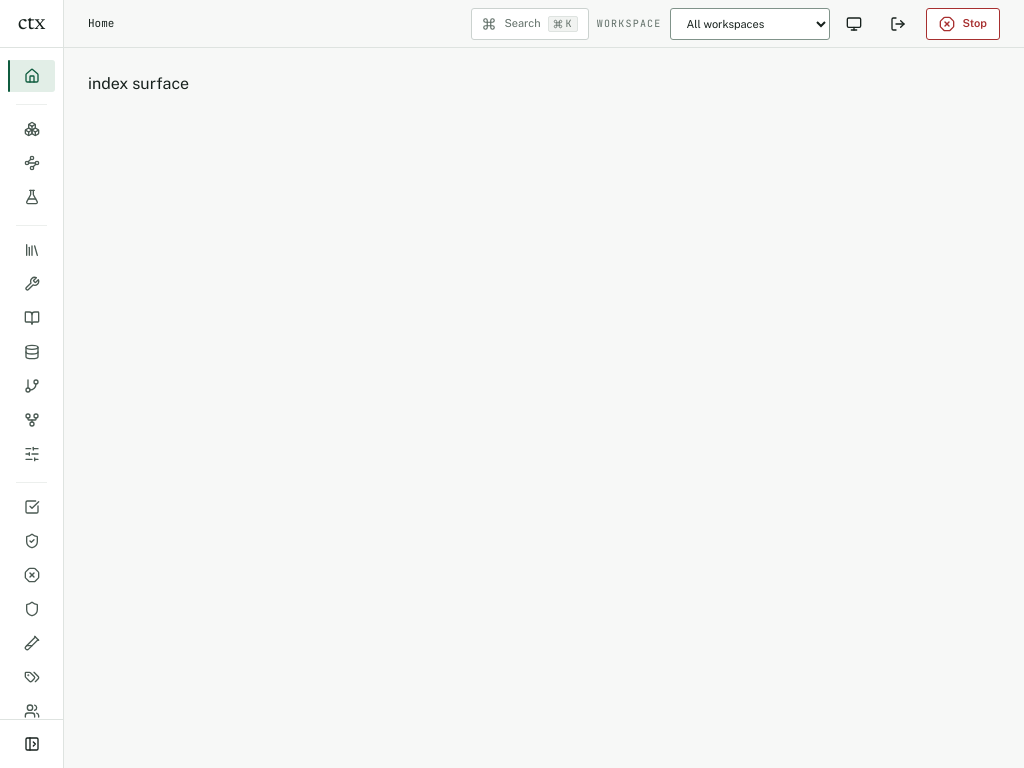
Test: ShellCommandPalette (cmd-K in the production shell) › runs the shell logout when Sign out is selected
Expected: the link named "Agents" is shown, [24,121,40,137]
Press k
(page scrolled)
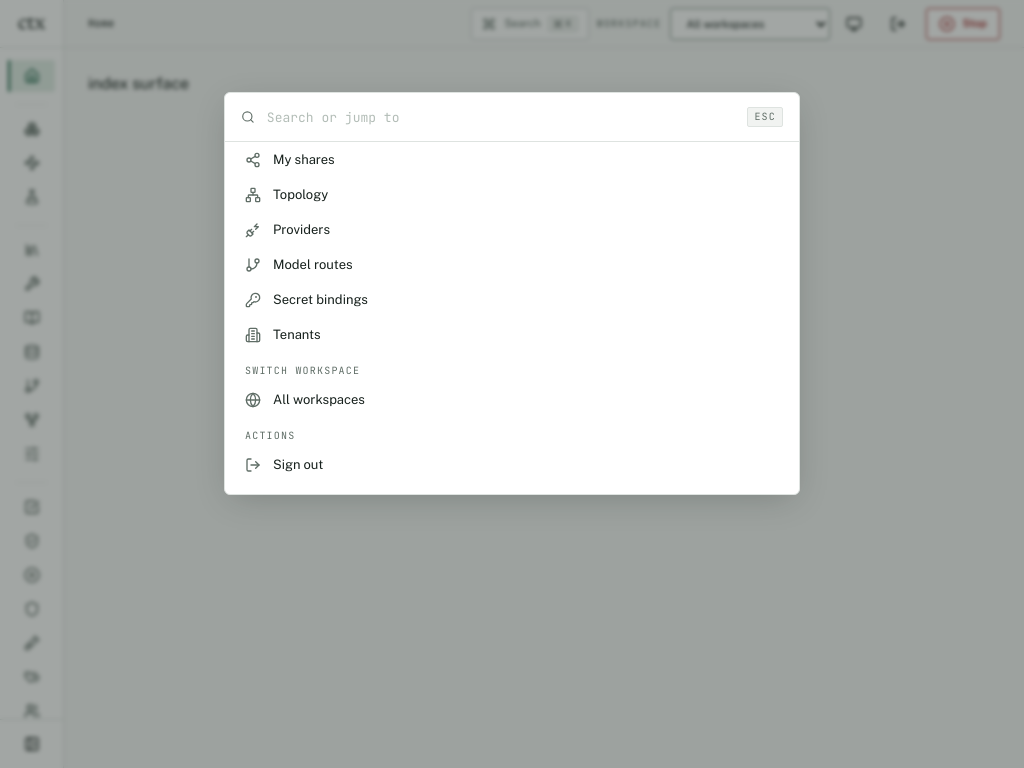
Expected: the dialog named "command palette" is shown
Click the option "Sign out". click: [298, 465]
box: [233,447,791,482]
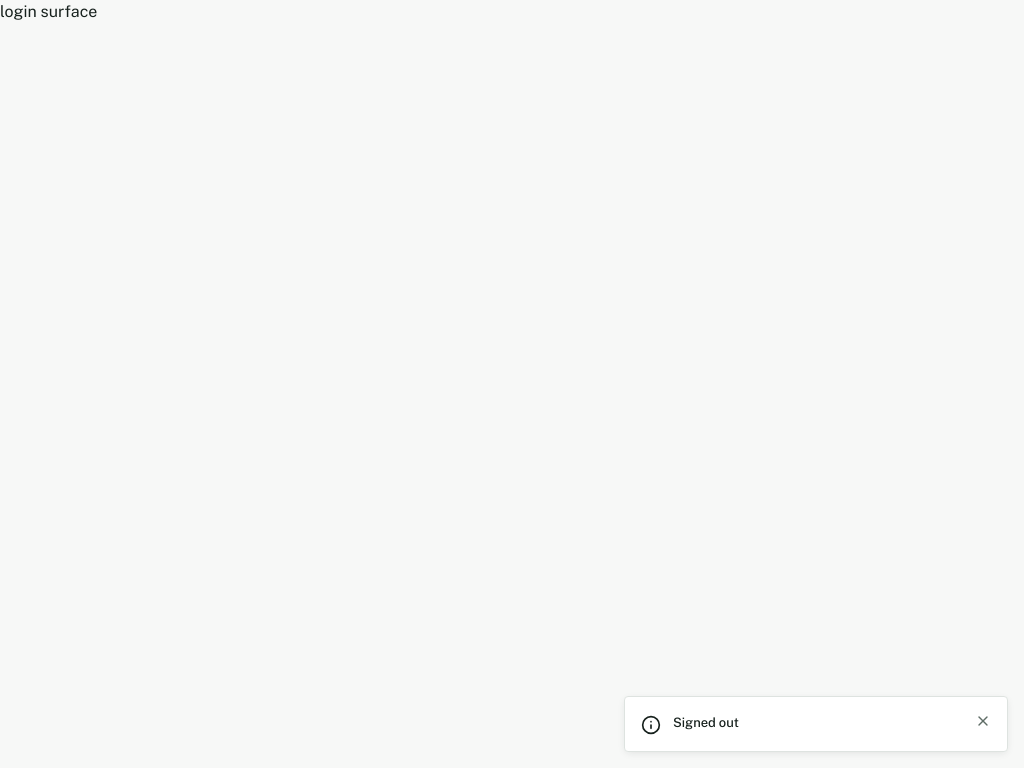
Expected: the text "login surface" is shown, [0,2,97,21]
